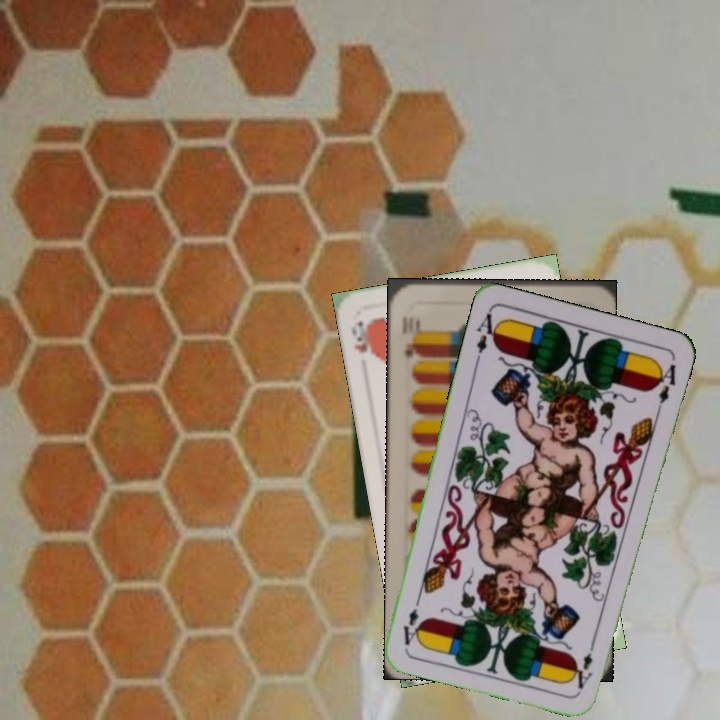E10: (398, 313, 421, 361)
EA: (472, 307, 503, 366), (573, 635, 599, 692)
HO: (347, 317, 377, 362)
